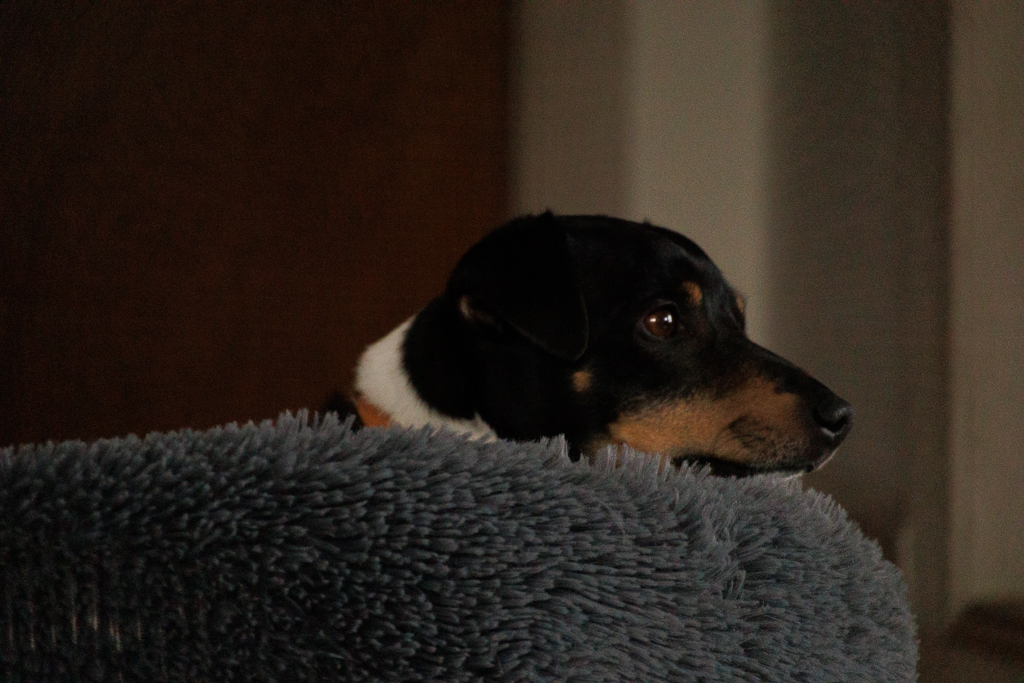Dog: (291, 203, 864, 503)
